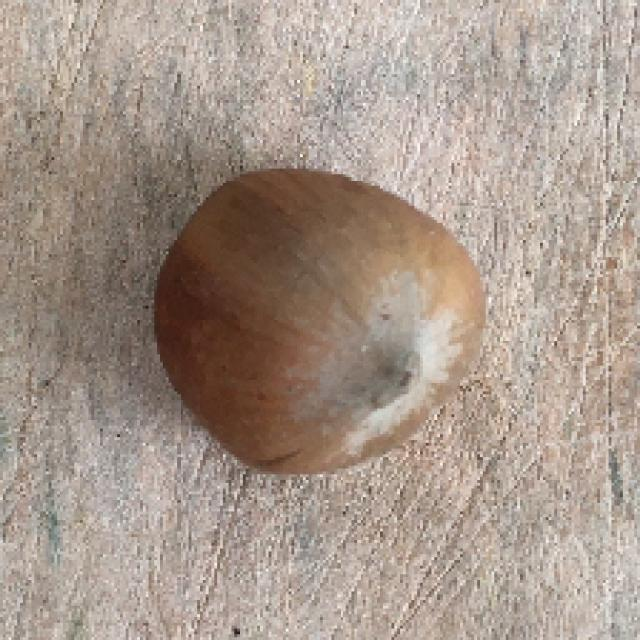qualityHazelnut: (162, 161, 480, 480)
